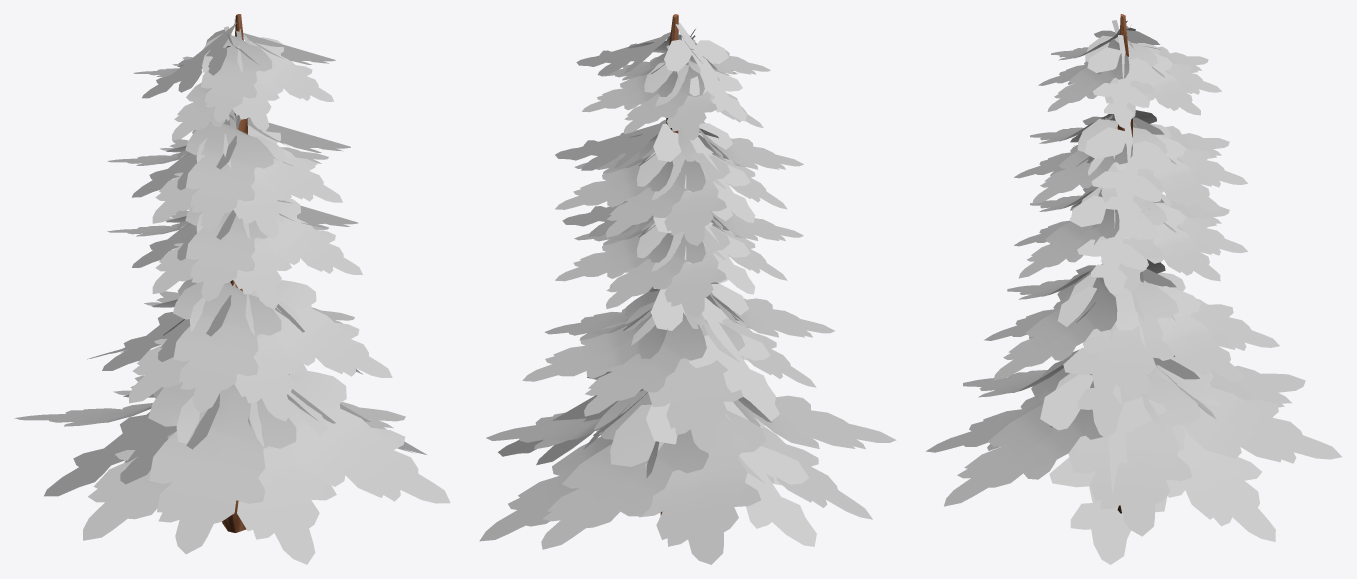
File: Pinetree.fbx
The picture shows the model from 3 angles, left to right: view 1: azimuth 30°, elevation 25°; view 2: azimuth 150°, elevation 25°; view 3: azimuth 270°, elevation 25°; orthographic projection. The views are drawn at different scales.
Parts seen in each view (by area): view 1: Pinetree_Branch1_lowpoly2, Pinetree_Branch1_lowpoly4, Pinetree_Branch1_lowpoly17, Pinetree_Branch1_lowpoly3, Pinetree_Branch1_lowpoly33, Pinetree_Branch1_lowpoly15, Pinetree_Branch2_lowpoly1, Pinetree_Branch1_lowpoly25, Pinetree_Branch1_lowpoly9, Pinetree_Branch1_lowpoly16, Pinetree_Branch1_lowpoly23, Pinetree_Branch1_lowpoly41 (+19 smaller); view 2: Pinetree_Branch1_lowpoly8, Pinetree_Branch1_lowpoly6, Pinetree_Branch2_lowpoly1, Pinetree_Branch1_lowpoly11, Pinetree_Branch2_lowpoly4, Pinetree_Branch1_lowpoly13, Pinetree_Branch1_lowpoly12, Pinetree_Branch1_lowpoly2, Pinetree_Branch1_lowpoly27, Pinetree_Branch1_lowpoly19, Pinetree_Branch1_lowpoly7, Pinetree_Branch2_lowpoly10 (+25 smaller); view 3: Pinetree_Branch1_lowpoly5, Pinetree_Branch1_lowpoly6, Pinetree_Branch1_lowpoly4, Pinetree_Branch2_lowpoly2, Pinetree_Branch1_lowpoly7, Pinetree_Branch1_lowpoly14, Pinetree_Branch1_lowpoly12, Pinetree_Branch1_lowpoly15, Pinetree_Branch2_lowpoly7, Pinetree_Branch2_lowpoly5, Pinetree_Branch2_lowpoly3, Pinetree_Branch2_lowpoly9 (+23 smaller).
Part boxes in pixels (x1=…): Pinetree_Branch1_lowpoly2: x1=148, y1=382, x2=296, y2=554; Pinetree_Branch1_lowpoly4: x1=249, y1=370, x2=450, y2=503; Pinetree_Branch1_lowpoly17: x1=173, y1=281, x2=281, y2=412; Pinetree_Branch1_lowpoly3: x1=176, y1=394, x2=336, y2=564; Pinetree_Branch1_lowpoly33: x1=185, y1=110, x2=273, y2=231; Pinetree_Branch1_lowpoly15: x1=245, y1=280, x2=392, y2=377; Pinetree_Branch2_lowpoly1: x1=44, y1=393, x2=219, y2=496; Pinetree_Branch1_lowpoly25: x1=185, y1=208, x2=268, y2=301; Pinetree_Branch1_lowpoly9: x1=83, y1=387, x2=250, y2=540; Pinetree_Branch1_lowpoly16: x1=189, y1=297, x2=306, y2=421; Pinetree_Branch1_lowpoly23: x1=243, y1=198, x2=362, y2=274; Pinetree_Branch1_lowpoly41: x1=201, y1=19, x2=271, y2=122; Pinetree_Branch1_lowpoly8: x1=610, y1=404, x2=766, y2=564; Pinetree_Branch1_lowpoly6: x1=541, y1=390, x2=708, y2=549; Pinetree_Branch2_lowpoly1: x1=646, y1=388, x2=816, y2=546; Pinetree_Branch1_lowpoly11: x1=631, y1=316, x2=744, y2=452; Pinetree_Branch2_lowpoly4: x1=651, y1=283, x2=775, y2=405; Pinetree_Branch1_lowpoly13: x1=584, y1=301, x2=706, y2=416; Pinetree_Branch1_lowpoly12: x1=522, y1=290, x2=667, y2=381; Pinetree_Branch1_lowpoly2: x1=733, y1=395, x2=896, y2=449; Pinetree_Branch1_lowpoly27: x1=637, y1=151, x2=729, y2=245; Pinetree_Branch1_lowpoly19: x1=637, y1=223, x2=730, y2=317; Pinetree_Branch1_lowpoly7: x1=479, y1=389, x2=659, y2=541; Pinetree_Branch2_lowpoly10: x1=664, y1=22, x2=746, y2=121; Pinetree_Branch1_lowpoly5: x1=1055, y1=373, x2=1200, y2=536; Pinetree_Branch1_lowpoly6: x1=1142, y1=356, x2=1341, y2=463; Pinetree_Branch1_lowpoly4: x1=944, y1=356, x2=1102, y2=506; Pinetree_Branch2_lowpoly2: x1=1040, y1=374, x2=1184, y2=564; Pinetree_Branch1_lowpoly7: x1=1120, y1=375, x2=1275, y2=541; Pinetree_Branch1_lowpoly14: x1=1069, y1=274, x2=1178, y2=399; Pinetree_Branch1_lowpoly12: x1=1115, y1=286, x2=1243, y2=382; Pinetree_Branch1_lowpoly15: x1=993, y1=268, x2=1117, y2=380; Pinetree_Branch2_lowpoly7: x1=1084, y1=124, x2=1170, y2=227; Pinetree_Branch2_lowpoly5: x1=1070, y1=195, x2=1156, y2=295; Pinetree_Branch2_lowpoly3: x1=1058, y1=286, x2=1149, y2=438; Pinetree_Branch2_lowpoly9: x1=1087, y1=35, x2=1157, y2=128.
Bounding box in the file's own units: 7.3 × 10.02 × 7.64.
